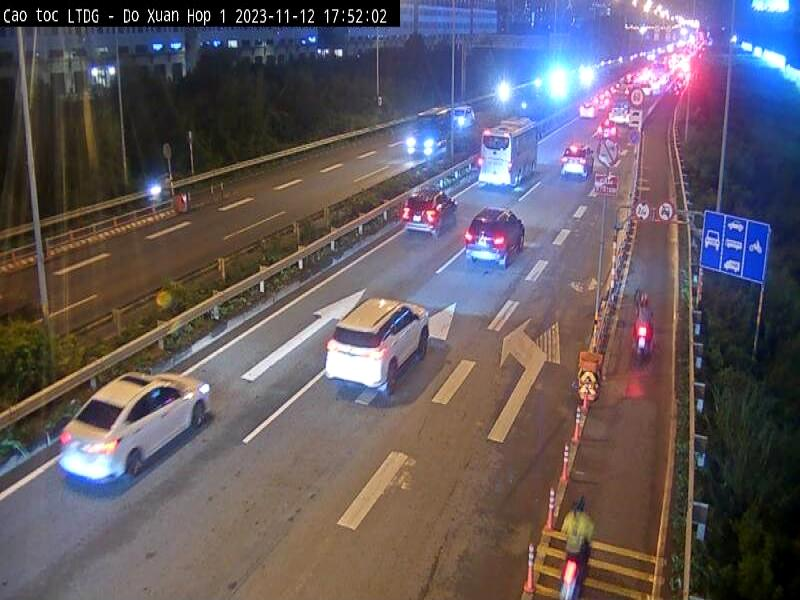bus: (476, 112, 541, 193)
